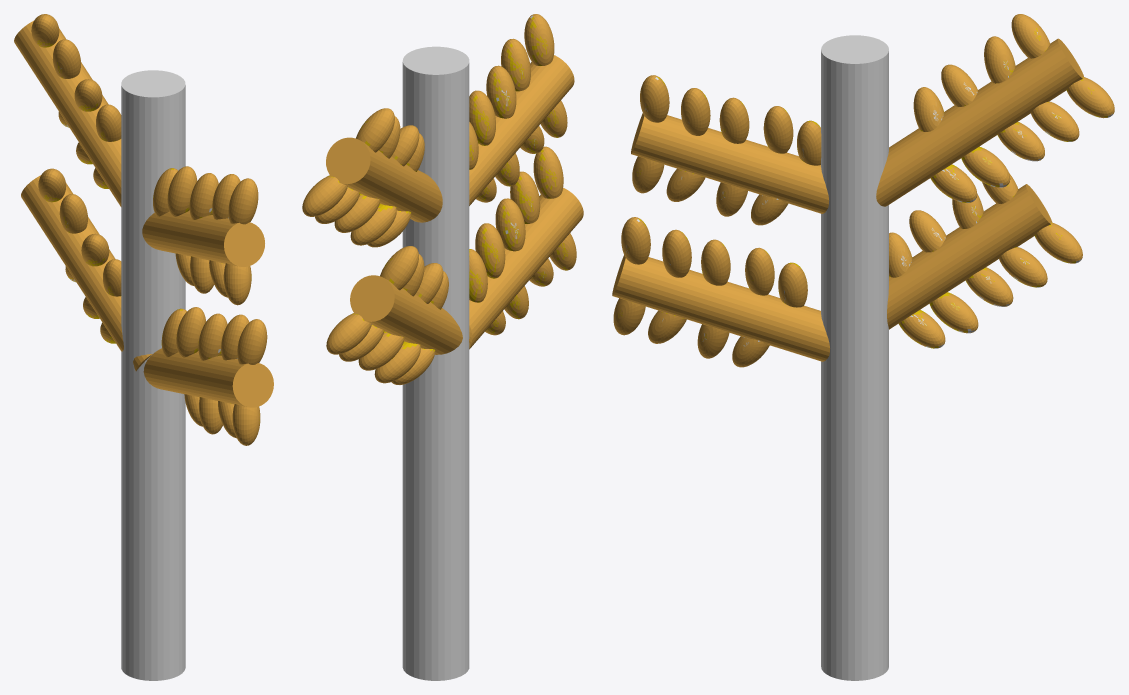
File: wheat2.fbx
3 renders of one model, left to right at view 1: azimuth 30°, elevation 25°; view 2: azimuth 150°, elevation 25°; view 3: azimuth 270°, elevation 25°, orthographic. The views are drawn at different scales.
Visible parts, largest first — view 1: Cylinder, Sphere.002, Sphere.004, Sphere.000, Sphere.001; view 2: Cylinder, Sphere.002, Sphere.000, Sphere.004, Sphere.001; view 3: Cylinder, Sphere.000, Sphere.002, Sphere.004, Sphere.001.
Boxes of the visible parts, box(x1,y1,x2,y2) form: Cylinder: box(121, 70, 185, 680); Sphere.002: box(143, 307, 273, 445); Sphere.004: box(142, 166, 264, 305); Sphere.000: box(14, 14, 121, 206); Sphere.001: box(21, 168, 152, 371); Cylinder: box(402, 46, 469, 680); Sphere.002: box(469, 146, 583, 349); Sphere.000: box(302, 108, 442, 247); Sphere.004: box(469, 14, 574, 205); Sphere.001: box(326, 246, 472, 384); Cylinder: box(821, 35, 888, 680); Sphere.000: box(876, 14, 1114, 206); Sphere.002: box(612, 217, 829, 367); Sphere.004: box(631, 75, 829, 225); Sphere.001: box(887, 173, 1082, 348).
Bounding box in the file's own units: 2.67 × 20.63 × 14.77.
